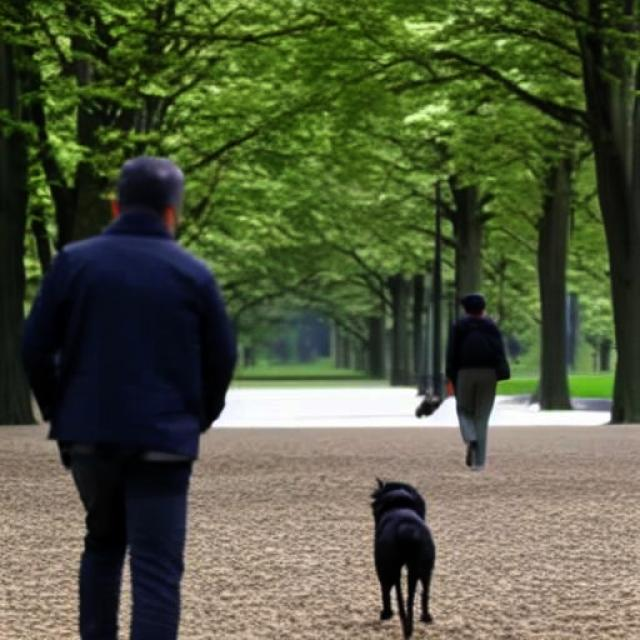Unleashed_Dog: (69, 452, 437, 640)
